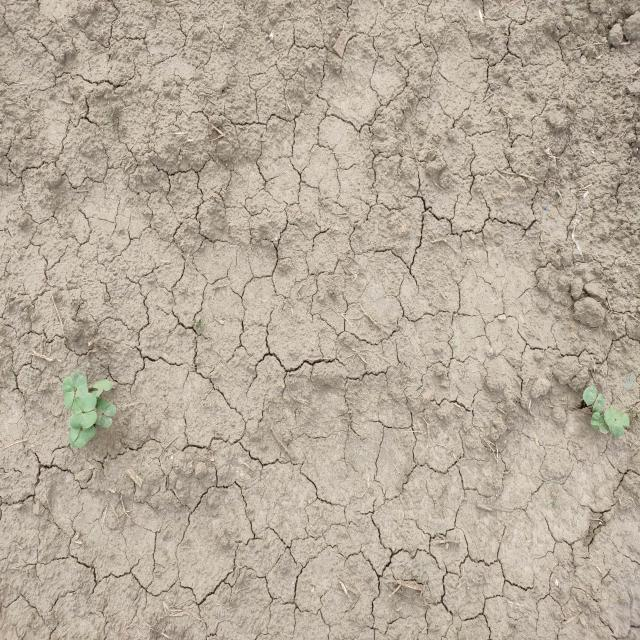seedling_s2: (69, 410, 97, 429), (604, 411, 624, 437), (74, 425, 96, 448), (72, 393, 97, 413), (72, 371, 89, 397), (610, 405, 630, 427), (62, 376, 75, 409), (94, 409, 113, 428), (96, 398, 116, 416), (583, 385, 597, 406), (592, 394, 606, 414), (92, 379, 112, 391), (68, 426, 81, 442), (599, 414, 609, 434), (590, 412, 601, 430)
